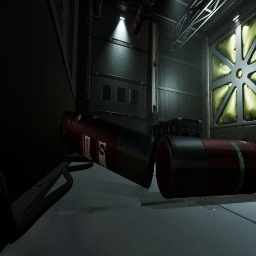NitrogenTank ,: (59, 110, 156, 189), (155, 135, 256, 199)
